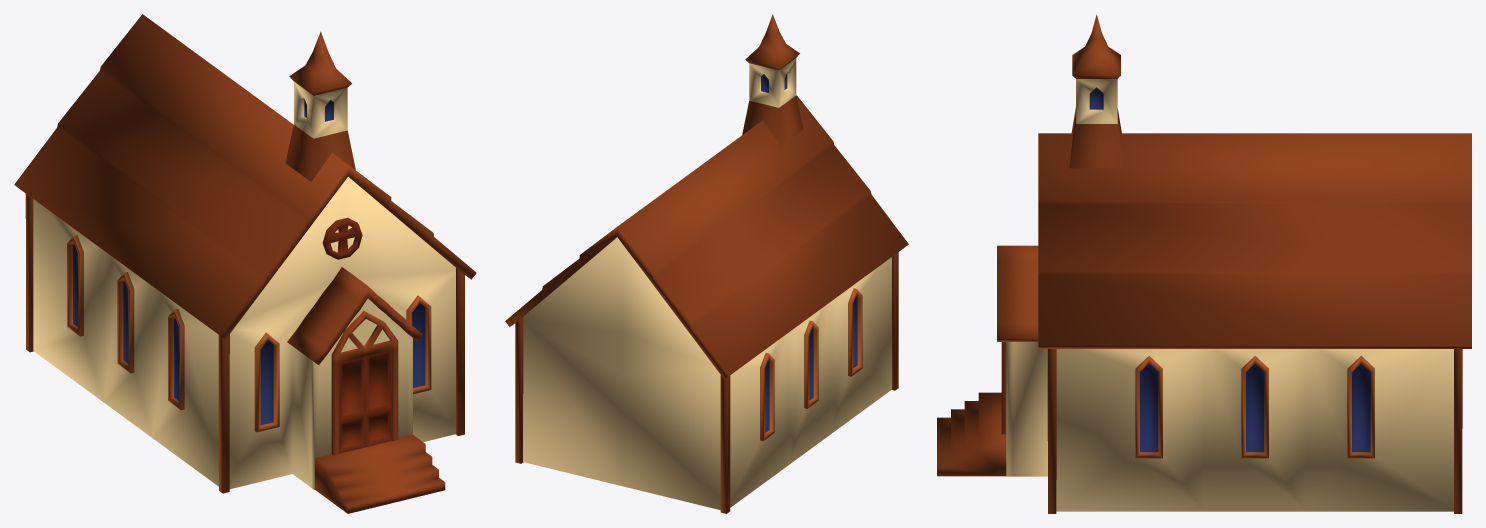
Rendered from Western_Church.fbx.
The picture shows the model from 3 angles, left to right: view 1: azimuth 30°, elevation 25°; view 2: azimuth 150°, elevation 25°; view 3: azimuth 270°, elevation 25°; orthographic projection. The views are drawn at different scales.
Visible parts, largest first — view 1: WesternBuilding_Church; view 2: WesternBuilding_Church; view 3: WesternBuilding_Church.
Part boxes in pixels (box(x1,y1,x2,y2)): WesternBuilding_Church: box(14, 14, 476, 513); WesternBuilding_Church: box(505, 14, 908, 513); WesternBuilding_Church: box(937, 14, 1471, 513).
Size of the model in its own units: 677 by 1047 by 1160.
Materials: 1 (1 with a texture image).
